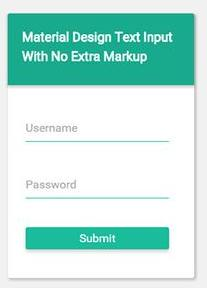button: (25, 226, 169, 250)
field_line: (24, 120, 171, 143), (24, 178, 170, 200)
